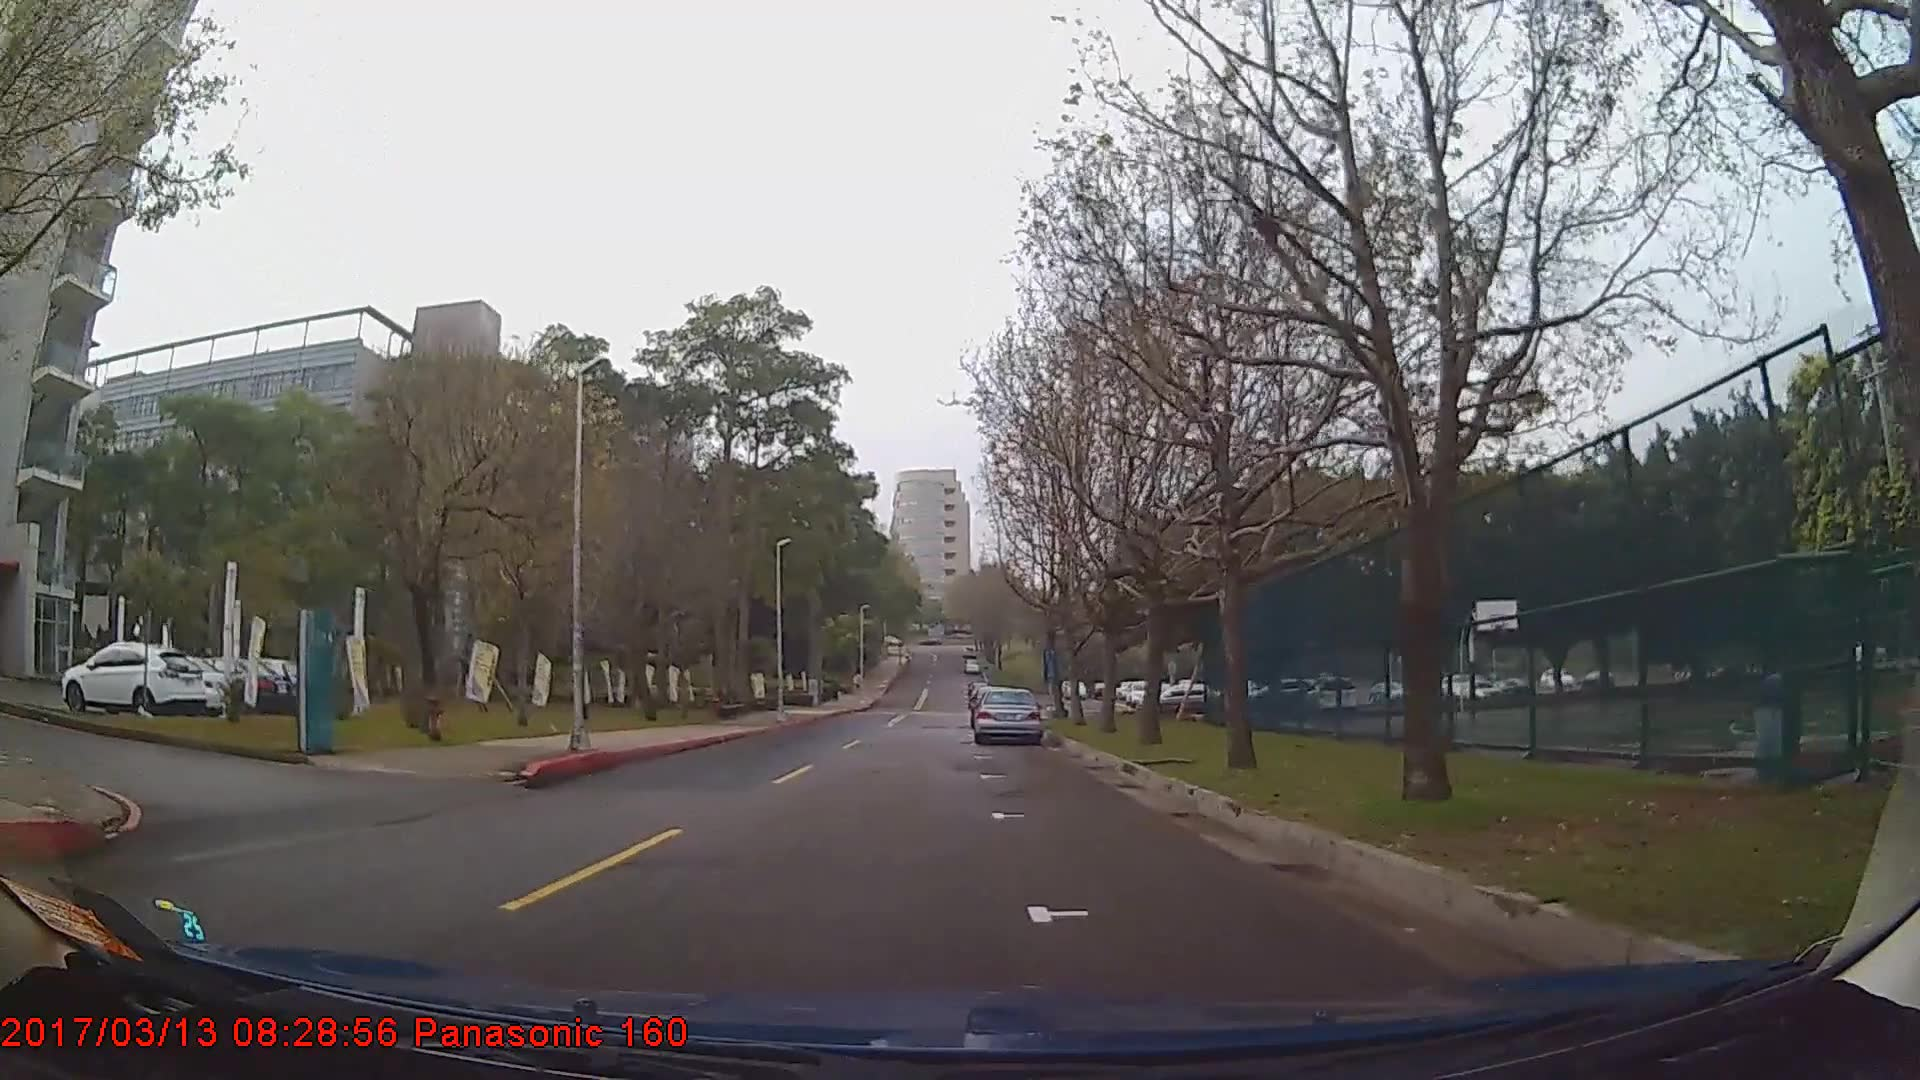vehicle: (61, 642, 207, 717), (112, 651, 237, 711), (975, 686, 1044, 745)
